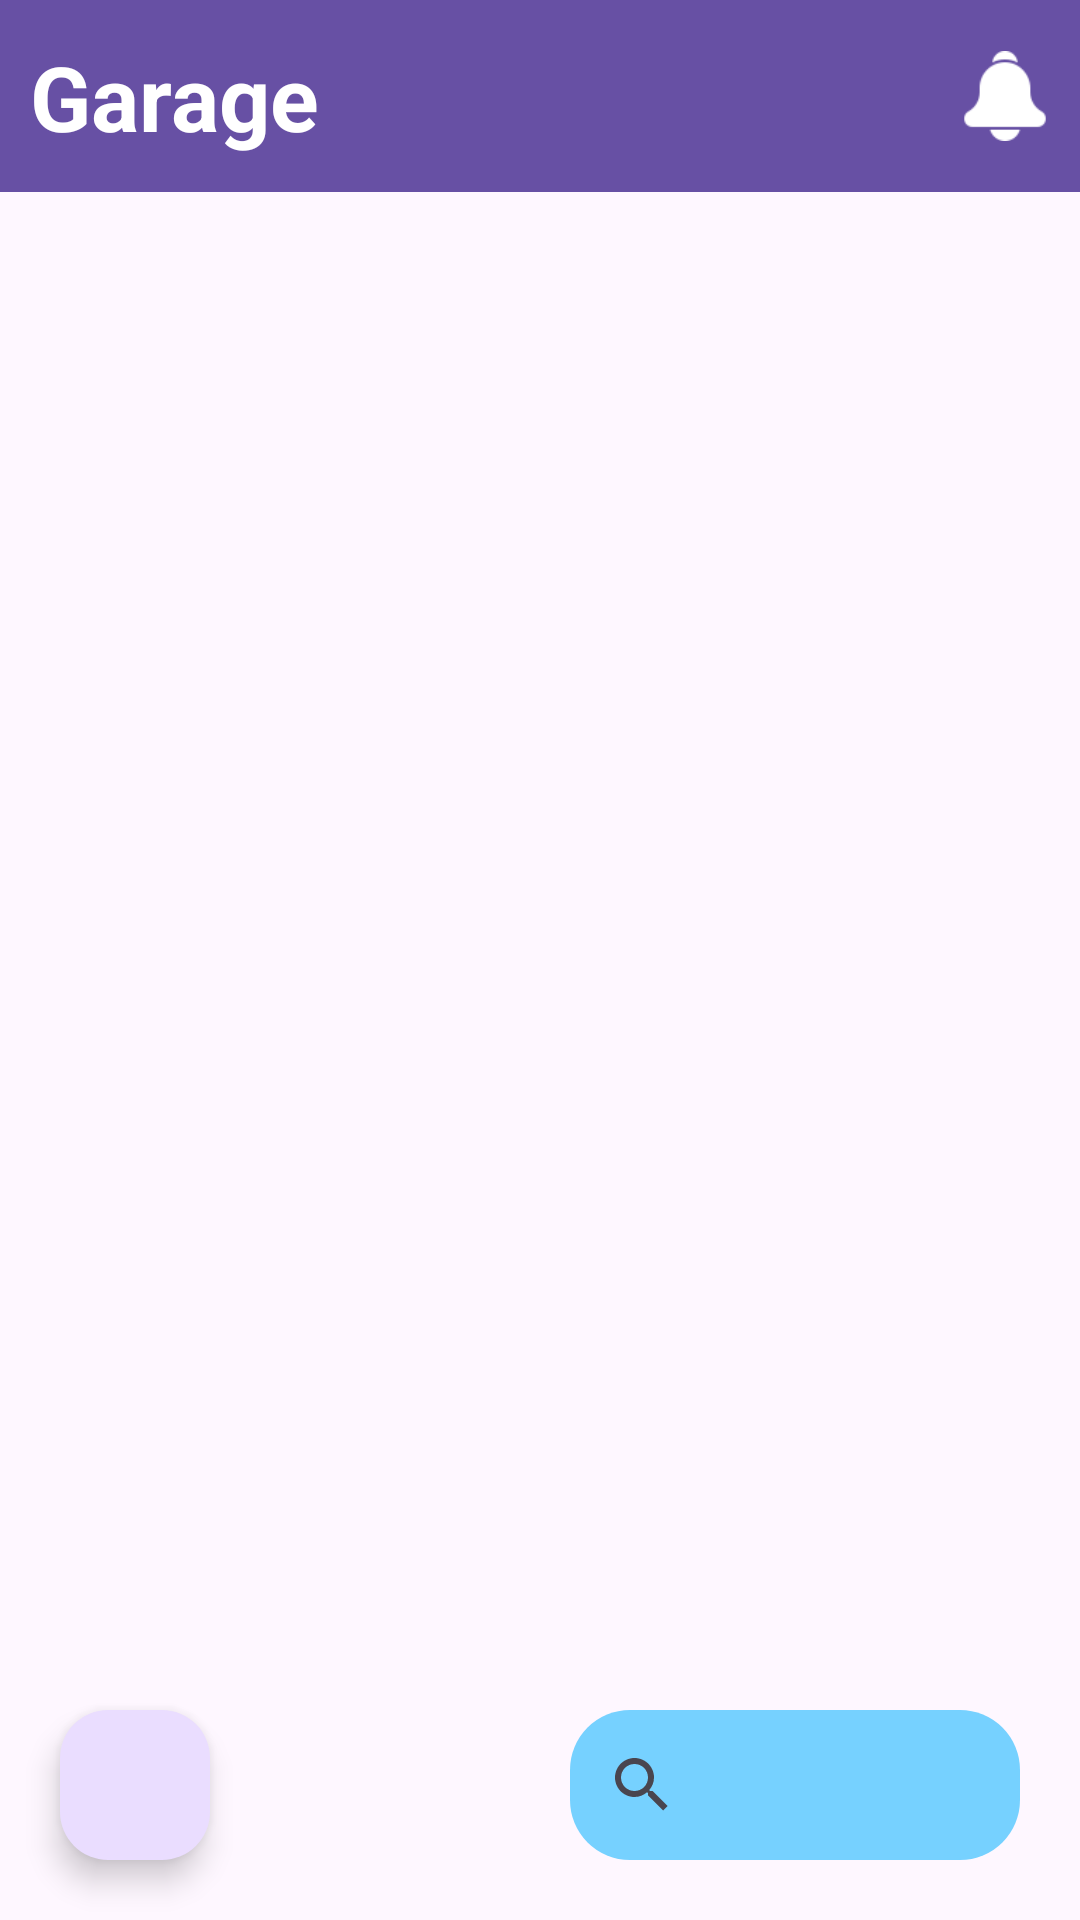

Icon bounding boxes for this 1080px x 1920px phone screenshot, format bbox=(x1, y1, x2, y2):
notification: bbox=(964, 51, 1046, 141)
